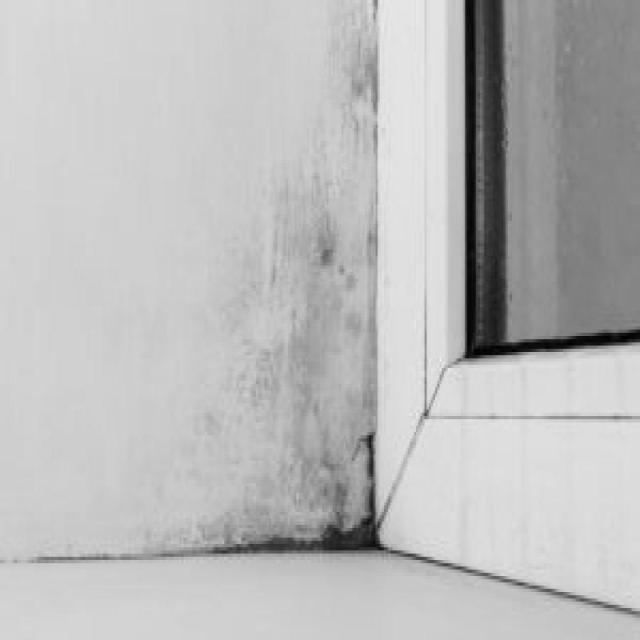stain marks: (88, 0, 435, 582)
